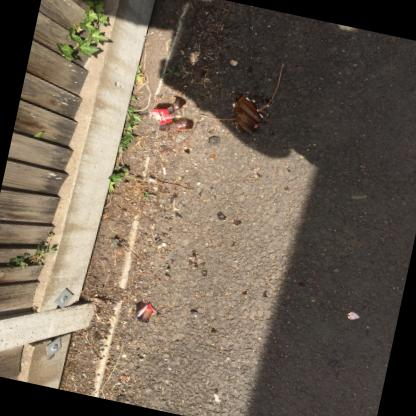Glass: (231, 91, 268, 136), (151, 94, 192, 130), (134, 300, 152, 322), (187, 249, 195, 264), (220, 23, 231, 33), (258, 97, 270, 104), (215, 210, 225, 218), (250, 94, 261, 101), (232, 219, 240, 224), (328, 359, 336, 364), (200, 269, 206, 275), (182, 147, 188, 153), (119, 333, 124, 339), (209, 327, 216, 331), (262, 289, 266, 296), (208, 153, 215, 157), (229, 240, 234, 245), (189, 308, 197, 311), (163, 271, 169, 275), (192, 261, 196, 267), (283, 184, 287, 189), (213, 387, 217, 392), (241, 290, 245, 294), (167, 225, 170, 230), (200, 261, 204, 264), (165, 264, 169, 267)
Paper: (161, 165, 165, 174)
Waste: (346, 310, 358, 318)
